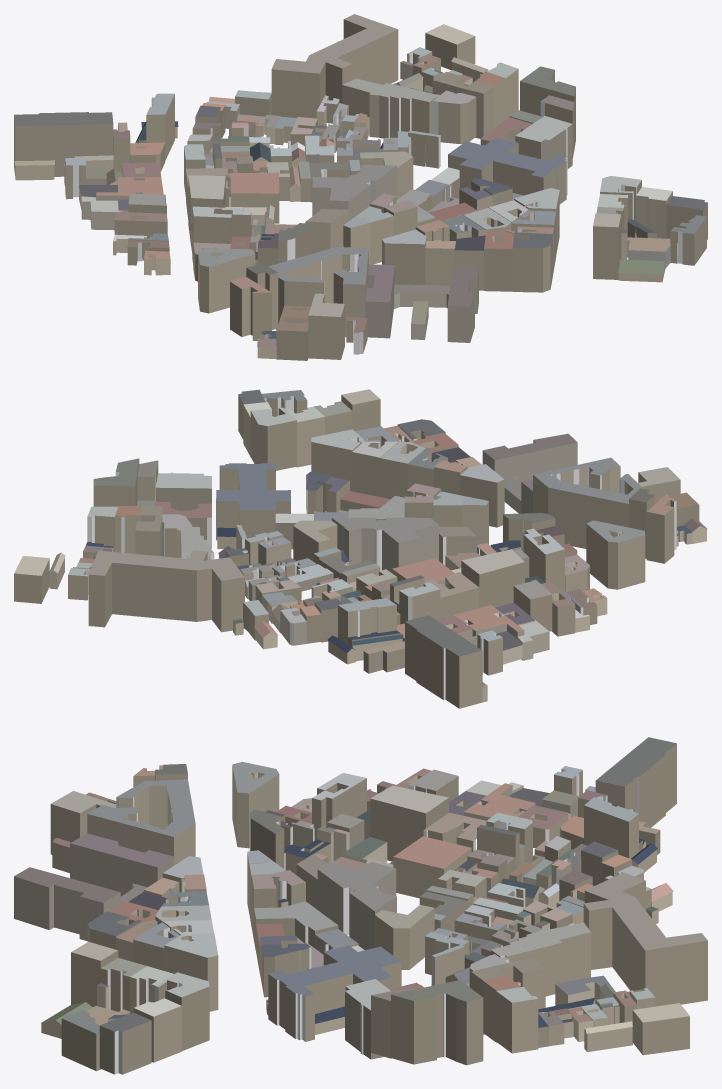
The picture shows the model from 3 angles, top to bottom: view 1: azimuth 30°, elevation 25°; view 2: azimuth 150°, elevation 25°; view 3: azimuth 270°, elevation 25°; orthographic projection. The views are drawn at different scales.
Visible parts, largest first — view 1: tuile; view 2: tuile; view 3: tuile.
Boxes of the visible parts, left/top/right/bottom form: tuile: left=14, top=14, right=707, bottom=360; tuile: left=14, top=389, right=706, bottom=708; tuile: left=14, top=737, right=707, bottom=1074.
Bounding box in the file's own units: 267 × 37.87 × 290.
